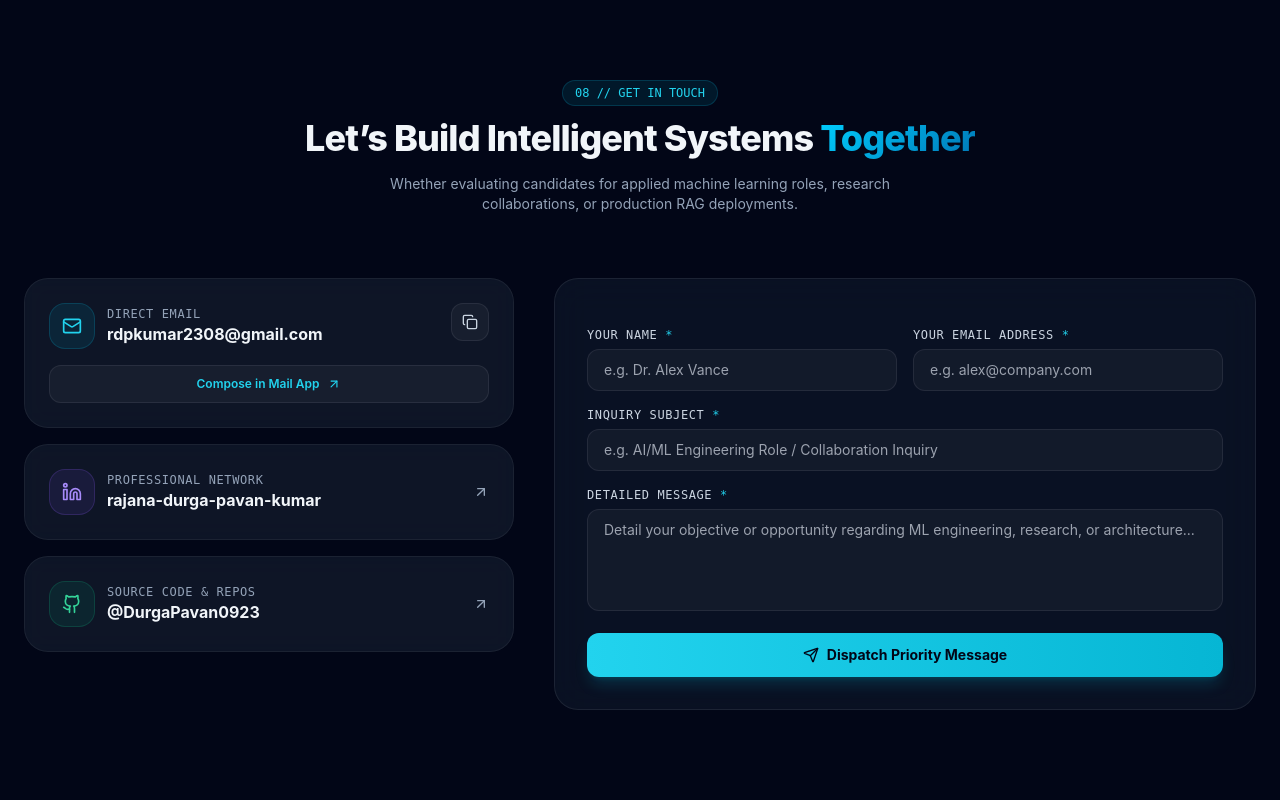
Contact Component › displays validation errors when submitting an empty form
The width and height of the screenshot is (1280, 800).
Step 1. Click the button "Dispatch Priority Message" → (905, 655), box [587, 633, 1223, 677]
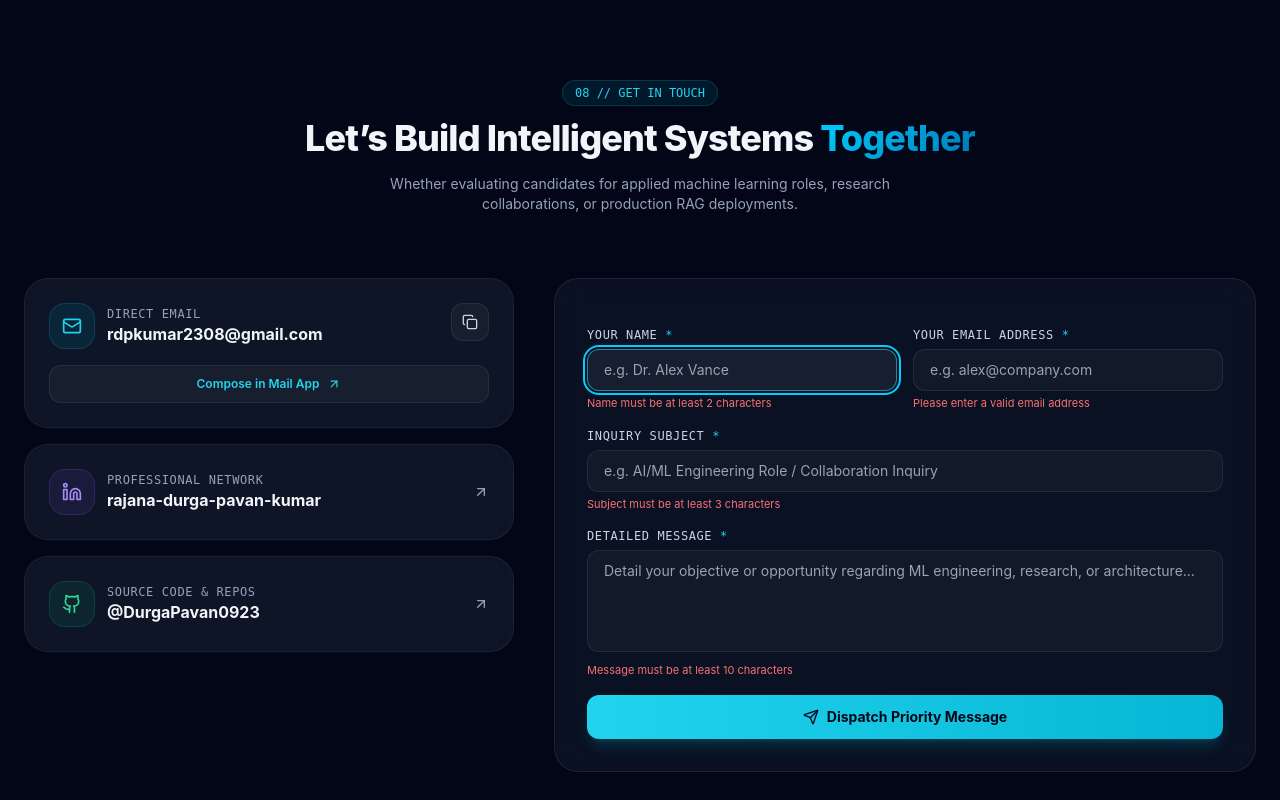
expect the text "Name must be at least 2 characters" is shown: met, box [587, 396, 772, 410]
expect the text "Please enter a valid email address" is shown: met, box [913, 396, 1090, 410]
expect the text "Subject must be at least 3 characters" is shown: met, box [587, 496, 780, 510]
